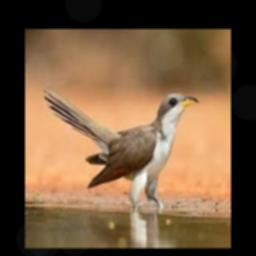Cuckoo: (43, 86, 199, 209)
